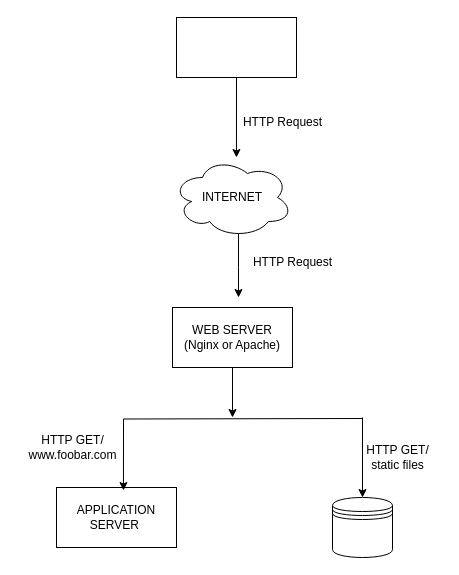
Image size: 459x575. Some labels were removed from this diagram. The centre of each missing label's shape, as x and y in pixels:
CLIENT (User's Computer): (x=236, y=47)
MySql: (x=362, y=527)
